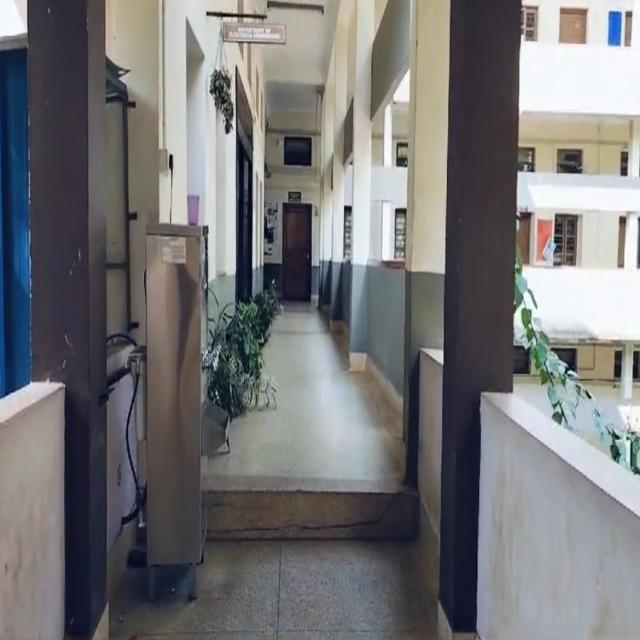fridge ahead at: (147, 222, 230, 606)
pillar ahead at: (412, 1, 445, 343), (352, 0, 371, 376)
step ahead at: (209, 495, 419, 534)
